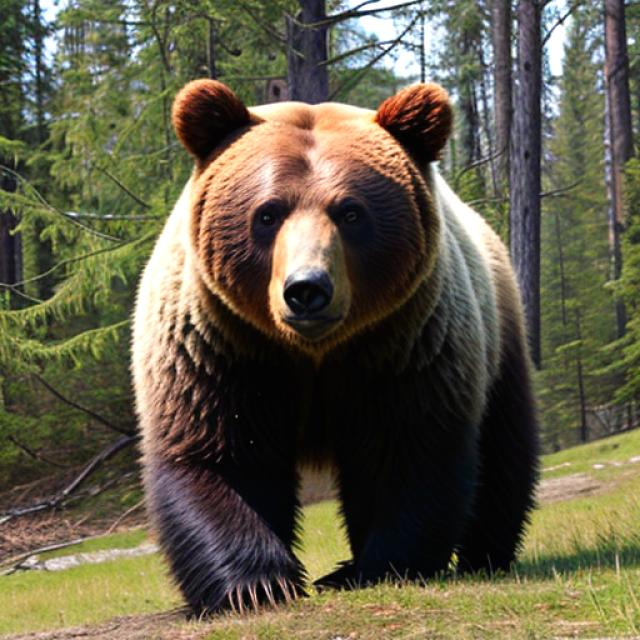bear: (157, 68, 469, 354)
